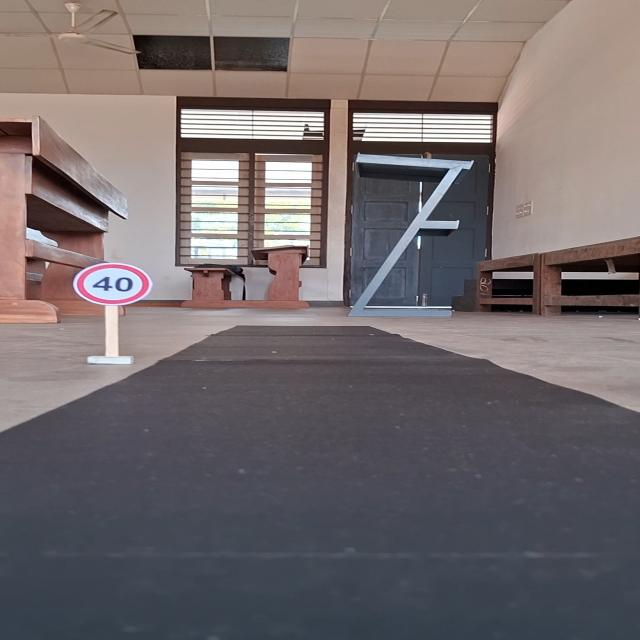Speed40: (69, 260, 152, 308)
